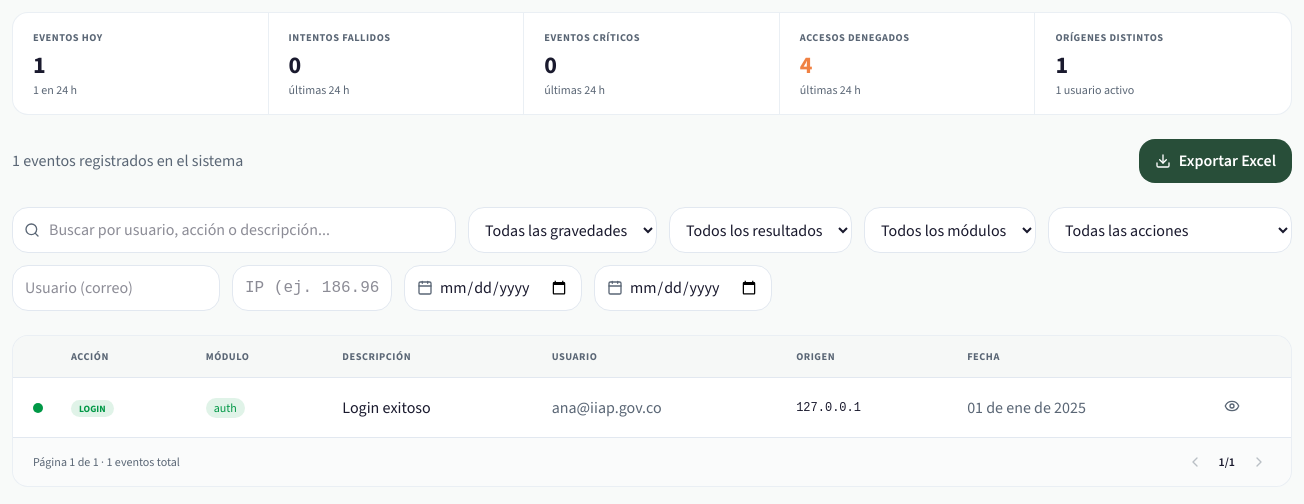
Test: AuditoriaTab — fase 2 (resultado, cambios y accesos denegados) › pulsar «Accesos denegados» filtra la tabla por resultado denegado
Click the button "Accesos denegados 4 últimas 24 h" at (908, 64), box [780,13,1035,114]
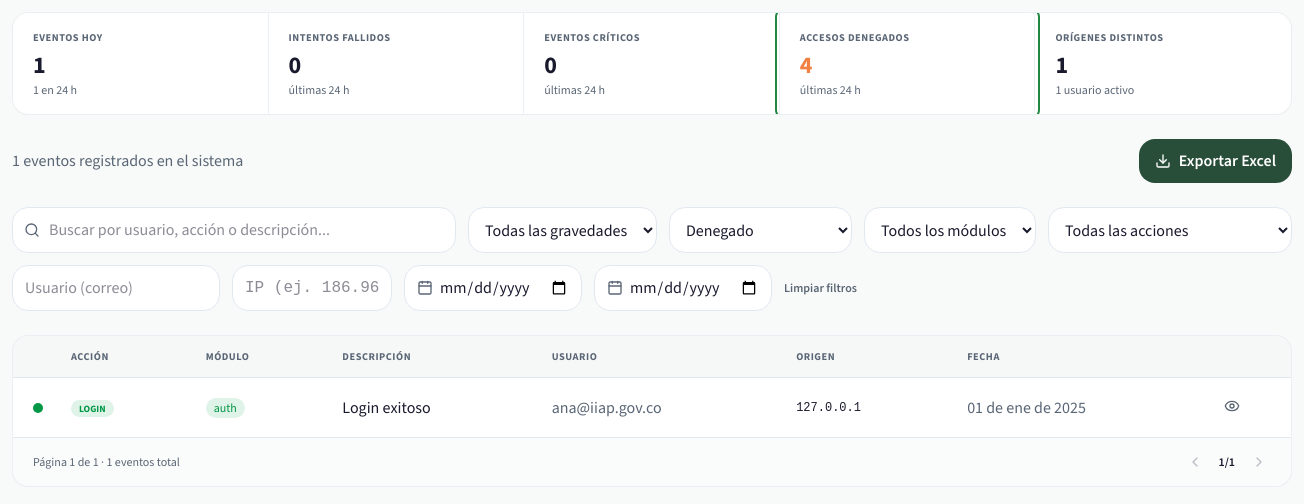
Check: the dropdown named "Resultado" shows "Denegado", box [669,207,852,253]
